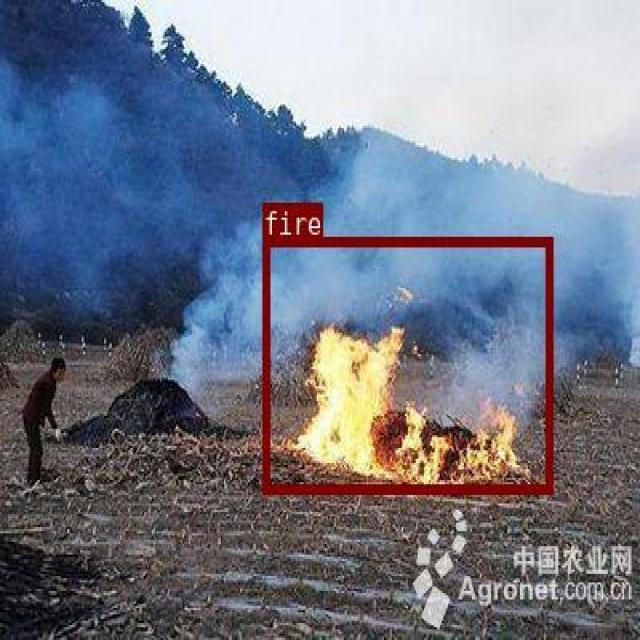fire: (262, 237, 552, 493)
